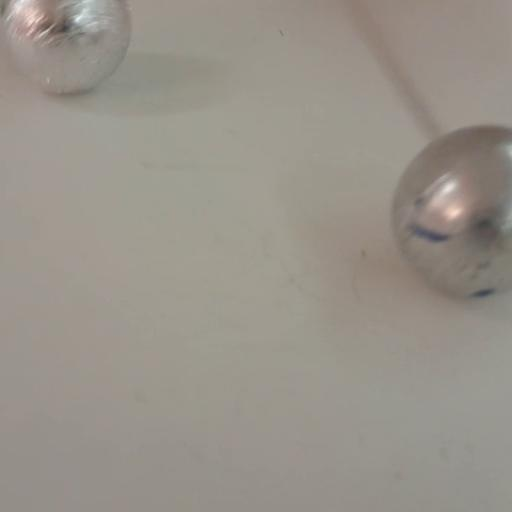alive: (384, 123, 512, 304), (2, 1, 133, 93)
